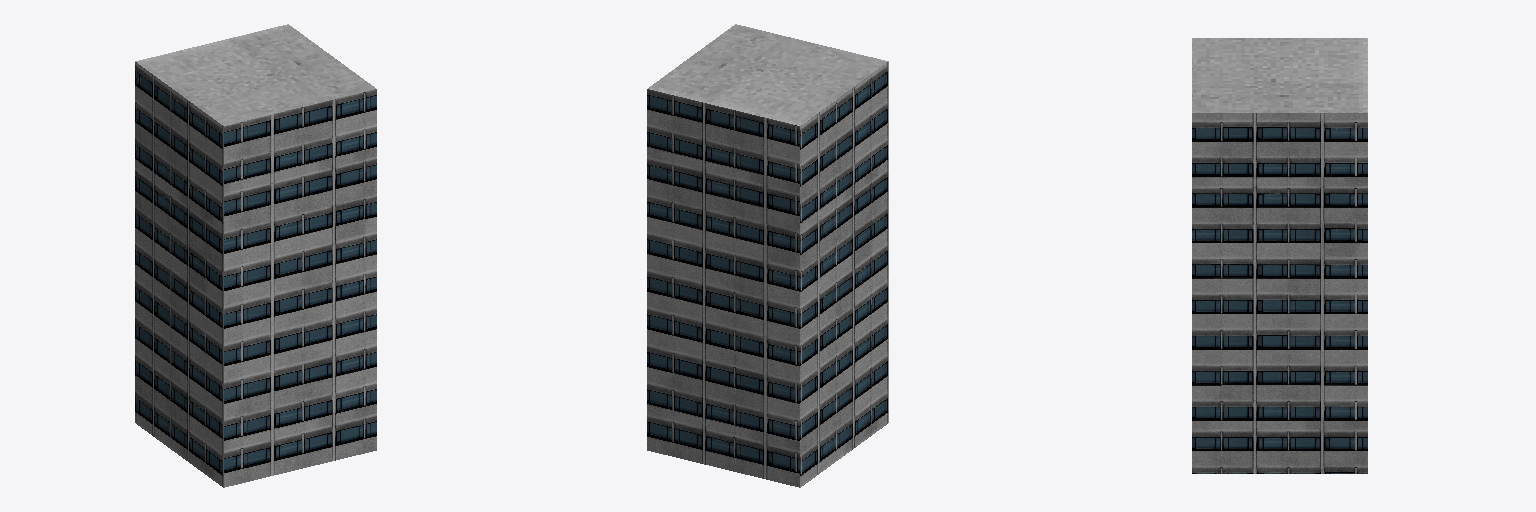
3 renders of one model, left to right at view 1: azimuth 30°, elevation 25°; view 2: azimuth 150°, elevation 25°; view 3: azimuth 270°, elevation 25°, orthographic.
Visible parts, largest first — view 1: Cube; view 2: Cube; view 3: Cube.
Boxes of the visible parts, <box> form: Cube: <box>135,24,376,487</box>; Cube: <box>647,24,888,487</box>; Cube: <box>1192,38,1367,473</box>.
Bounding box in the file's own units: 9.69 × 21.86 × 9.69.
Materials: 1 (1 with a texture image).